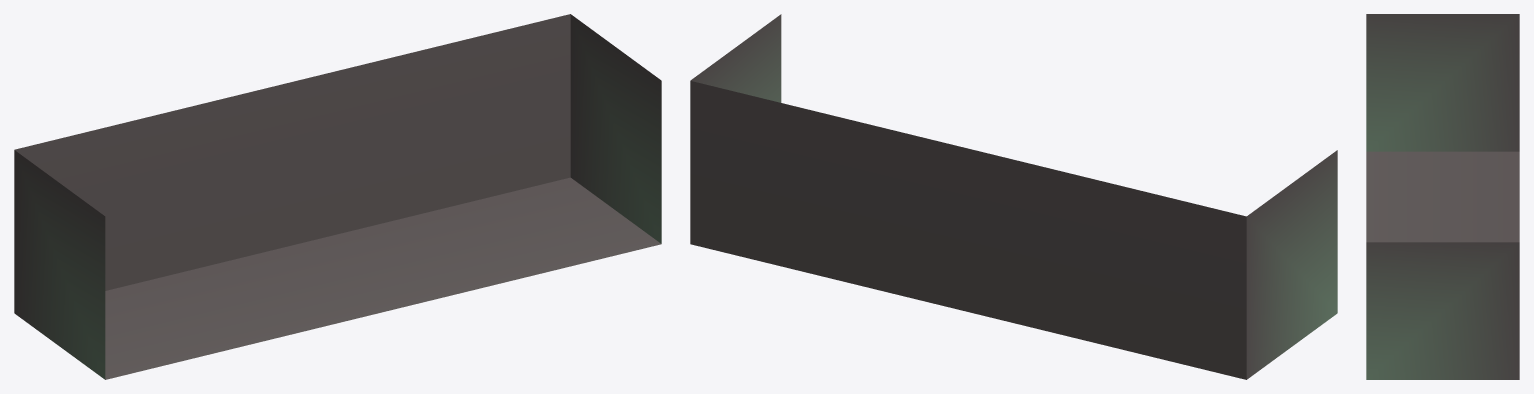
The model's file is balcony-type-a.glb.
3 views of the same model, side by side, from view 1: azimuth 30°, elevation 25°; view 2: azimuth 150°, elevation 25°; view 3: azimuth 270°, elevation 25° (orthographic). The views are drawn at different scales.
Parts seen in each view (by area): view 1: balcony-type-a; view 2: balcony-type-a; view 3: balcony-type-a.
Part boxes in pixels (left/top/right/bottom): balcony-type-a: left=14, top=14, right=661, bottom=379; balcony-type-a: left=690, top=14, right=1337, bottom=379; balcony-type-a: left=1366, top=14, right=1519, bottom=379.
Bounding box in the file's own units: 1 × 0.2808 × 0.2837.
